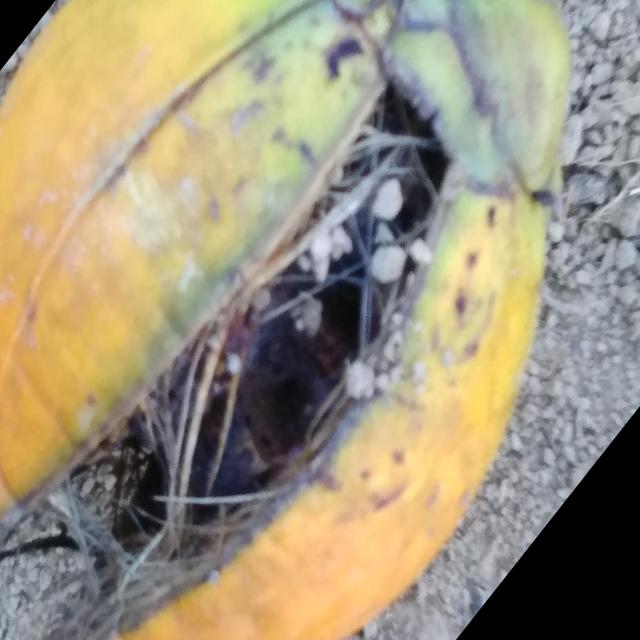damaged: (0, 0, 572, 640)
